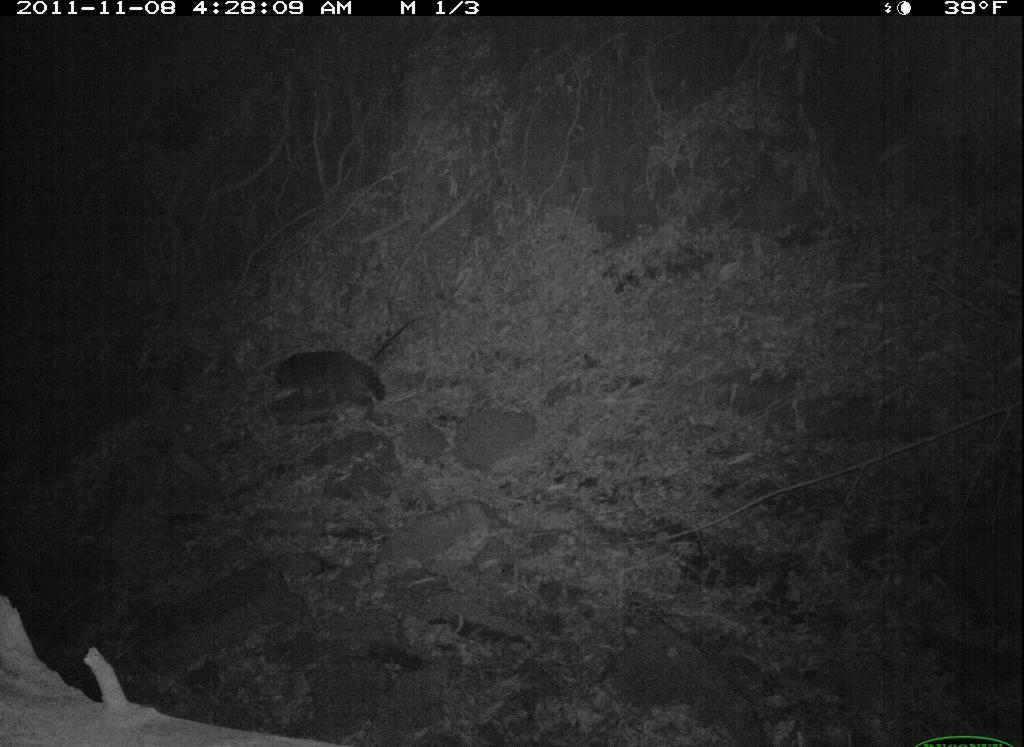raccoon: (255, 338, 402, 420)
